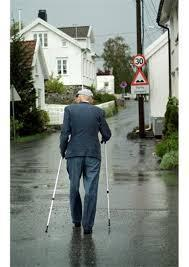crutches: (45, 90, 111, 234)
